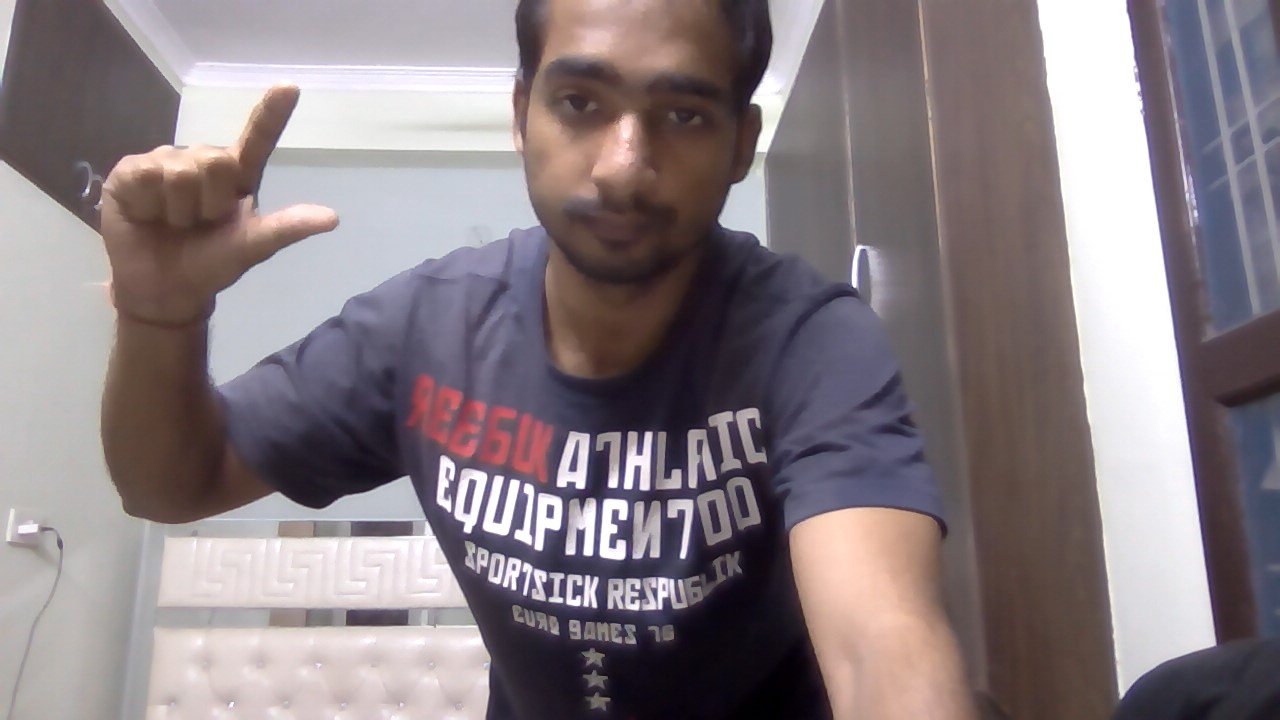Paste: (84, 72, 345, 331)
